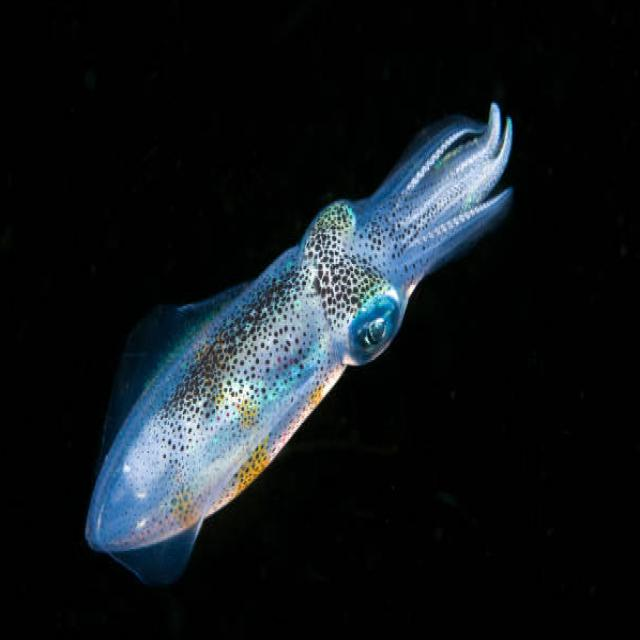SQUID: (68, 82, 535, 596)
